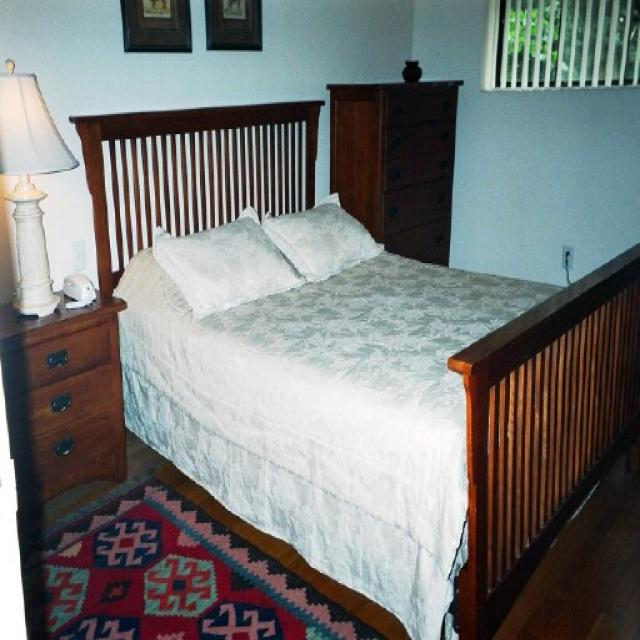2001: (484, 0, 636, 85)
bed -occluded-: (69, 99, 636, 638)
carpet floor: (20, 472, 384, 638)
chest: (326, 75, 464, 265)
door bars: (1, 343, 26, 635)
floor -X: (14, 302, 636, 635)
lamp occluded: (1, 60, 78, 315)
night table crop: (1, 283, 128, 545)
picture frame: (121, 0, 191, 50), (204, 0, 261, 50)
pillow occluded: (150, 206, 305, 315), (262, 196, 376, 281)
socket: (560, 241, 575, 266)
telephone booth: (58, 271, 94, 307)
wall clock: (1, 2, 412, 456), (404, 2, 636, 367)
